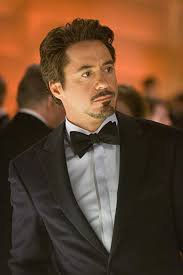noMask: (31, 19, 143, 134)
